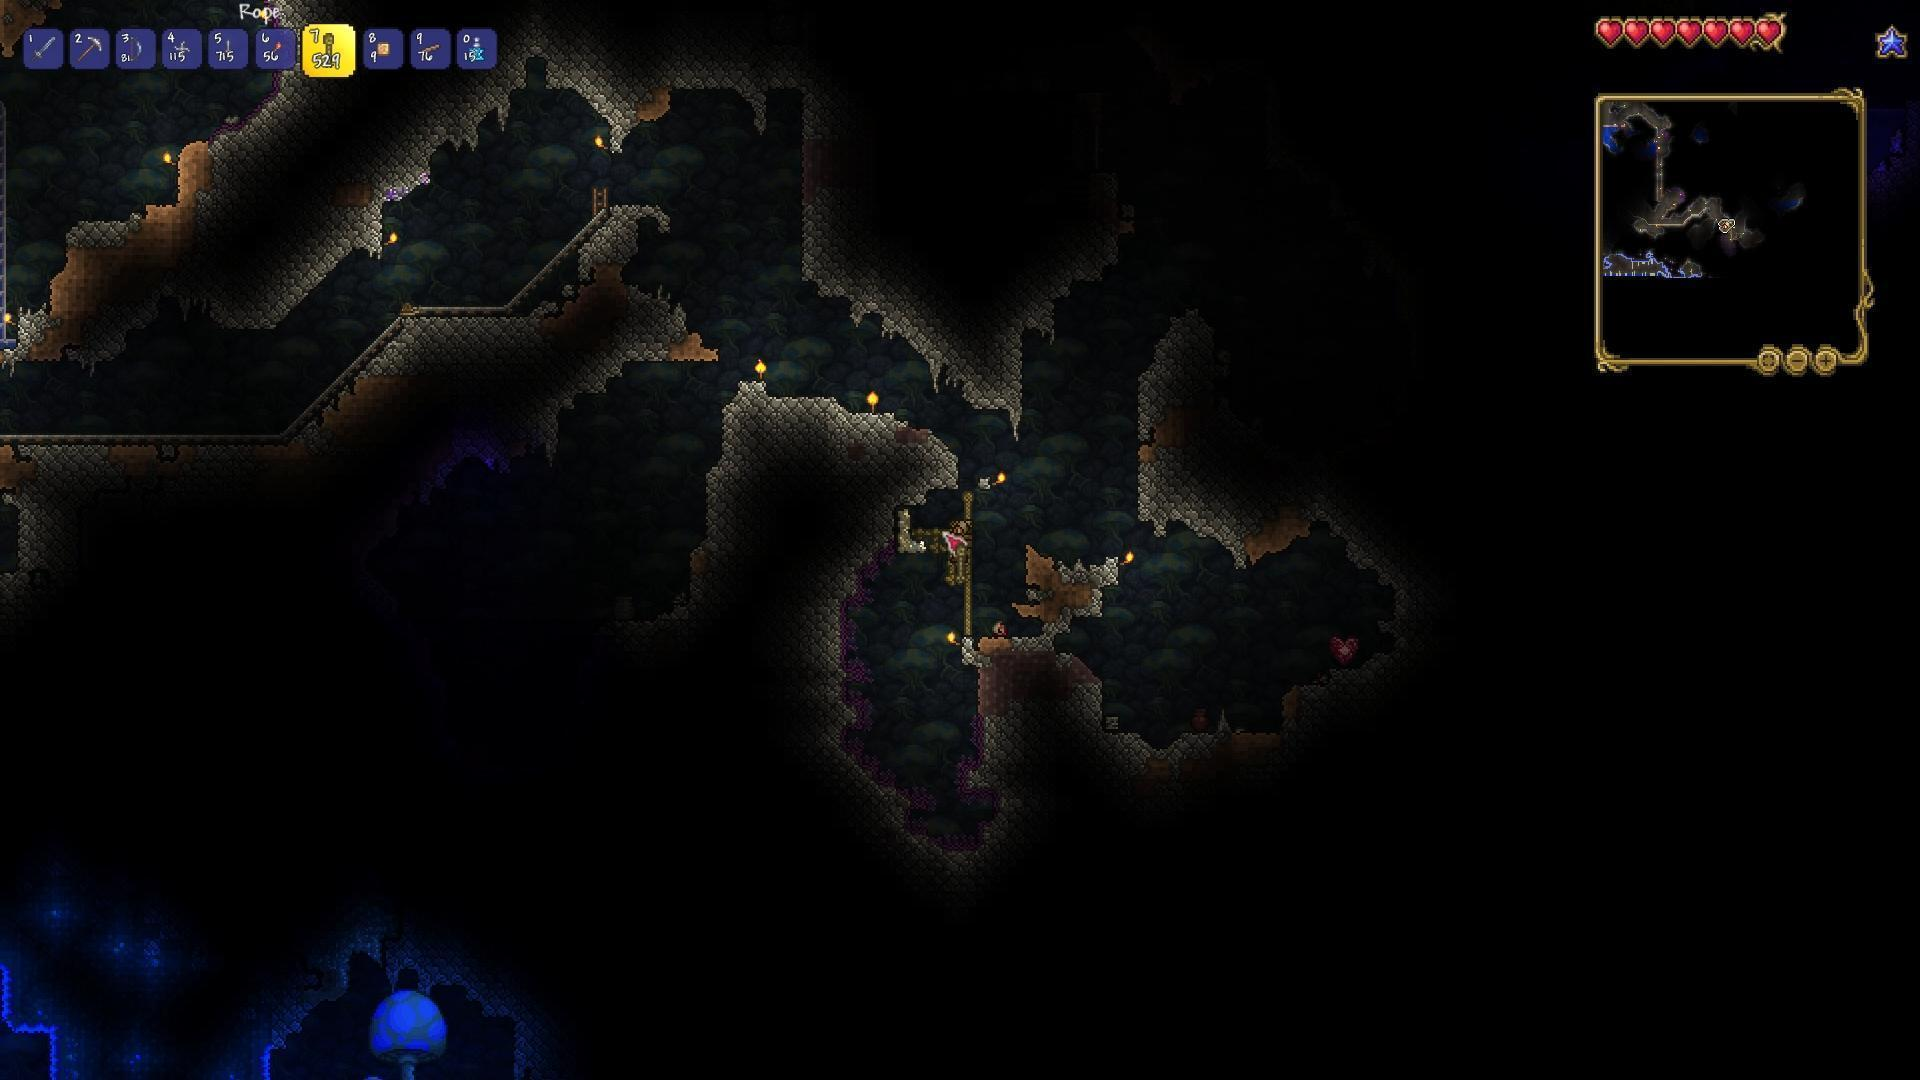bow: (127, 33, 142, 66)
knife: (222, 37, 231, 58)
lifeC: (1327, 626, 1361, 671)
pickaxe: (75, 36, 103, 62)
recallP: (469, 33, 484, 59)
rope: (320, 29, 340, 69)
shuriken: (169, 37, 193, 55)
